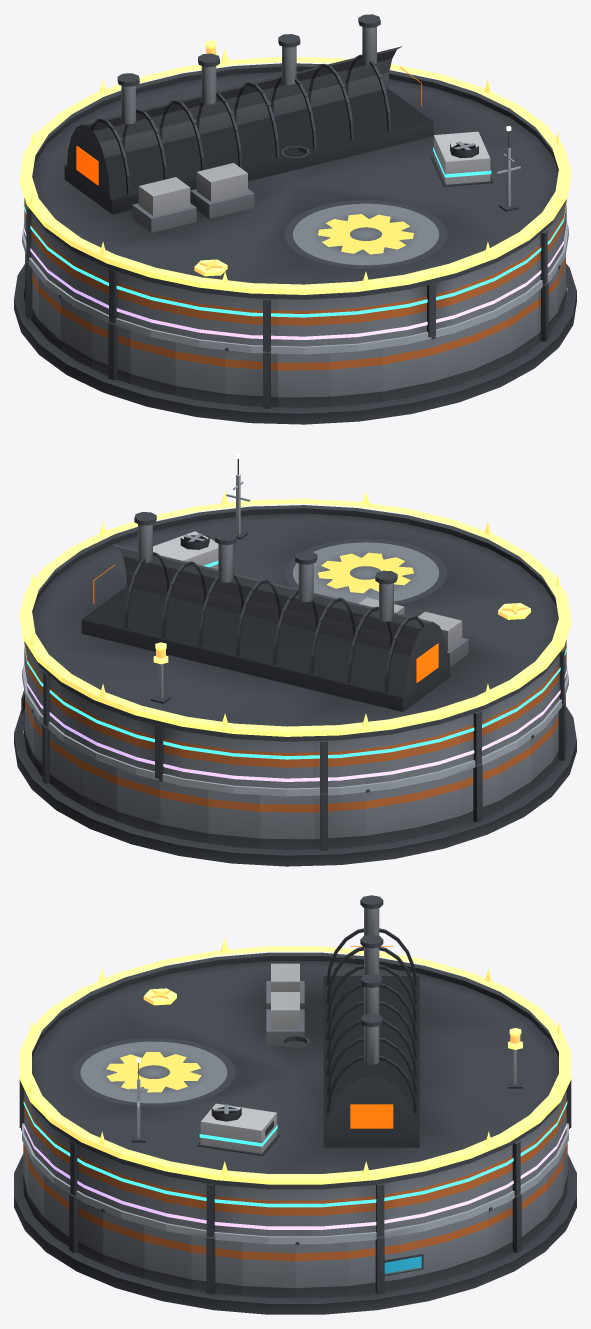
Rendered from ceramics_kiln_s.glb.
3 renders of one model, top to bottom at view 1: azimuth 30°, elevation 25°; view 2: azimuth 150°, elevation 25°; view 3: azimuth 270°, elevation 25°, orthographic.
Parts seen in each view (by area): view 1: Roof, Base, L3, Wall_21, Wall_20, Wall_22, Wall_19, Wall_23, Wall_18, Wall_24, Upper_20, Upper_21 (+35 smaller); view 2: Roof, Base, Wall_10, Wall_11, Wall_09, Wall_12, Wall_08, Wall_13, Wall_07, Upper_11, Upper_10, Upper_09 (+34 smaller); view 3: Roof, Base, L3, Wall_00, Wall_31, Wall_30, Wall_01, Wall_29, Wall_28, Upper_01, Upper_30, Wall_03 (+32 smaller).
Boxes of the visible parts, x1=… form: Roof: x1=28, y1=14, x2=564, y2=299; Base: x1=14, y1=263, x2=576, y2=424; L3: x1=281, y1=131, x2=493, y2=186; Wall_21: x1=277, y1=353, x2=330, y2=407; Wall_20: x1=225, y1=347, x2=277, y2=408; Wall_22: x1=331, y1=348, x2=382, y2=406; Wall_19: x1=175, y1=342, x2=225, y2=403; Wall_23: x1=382, y1=339, x2=430, y2=401; Wall_18: x1=130, y1=330, x2=175, y2=395; Wall_24: x1=431, y1=326, x2=474, y2=392; Upper_20: x1=225, y1=295, x2=277, y2=351; Upper_21: x1=278, y1=298, x2=330, y2=346; Roof: x1=26, y1=505, x2=562, y2=741; Base: x1=14, y1=706, x2=576, y2=866; Wall_10: x1=260, y1=795, x2=313, y2=849; Wall_11: x1=313, y1=792, x2=365, y2=850; Wall_09: x1=208, y1=790, x2=259, y2=848; Wall_12: x1=365, y1=784, x2=415, y2=845; Wall_08: x1=159, y1=779, x2=208, y2=843; Wall_13: x1=415, y1=772, x2=460, y2=837; Wall_07: x1=116, y1=768, x2=159, y2=834; Upper_11: x1=313, y1=737, x2=365, y2=793; Upper_10: x1=260, y1=740, x2=312, y2=788; Upper_09: x1=208, y1=735, x2=260, y2=786; Roof: x1=31, y1=895, x2=559, y2=1189; Base: x1=14, y1=1154, x2=576, y2=1314; L3: x1=197, y1=1035, x2=310, y2=1156; Wall_00: x1=295, y1=1242, x2=348, y2=1298; Wall_31: x1=242, y1=1242, x2=295, y2=1298; Wall_30: x1=191, y1=1235, x2=242, y2=1295; Wall_01: x1=348, y1=1235, x2=399, y2=1295; Wall_29: x1=144, y1=1225, x2=191, y2=1289; Wall_28: x1=101, y1=1208, x2=144, y2=1278; Upper_01: x1=348, y1=1181, x2=399, y2=1237; Upper_30: x1=191, y1=1181, x2=242, y2=1237; Wall_03: x1=446, y1=1211, x2=487, y2=1278.
Bounding box in the file's own units: 11.74 × 5.35 × 11.74.
